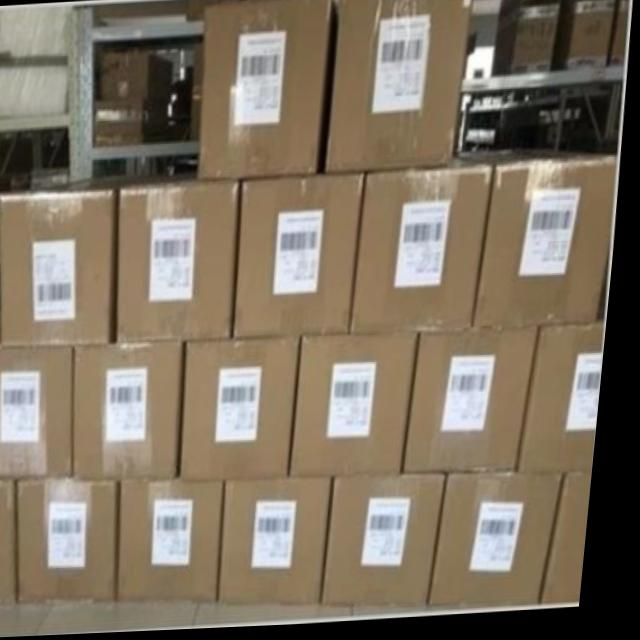box: (3, 175, 172, 348), (459, 153, 621, 331), (326, 0, 473, 177), (354, 157, 498, 336), (201, 0, 339, 182), (239, 173, 369, 342), (121, 174, 246, 347), (410, 329, 546, 477), (299, 332, 426, 479), (440, 478, 573, 613), (187, 339, 308, 481), (332, 479, 456, 612), (80, 345, 191, 481), (228, 480, 342, 609), (129, 481, 235, 608), (525, 326, 612, 478), (25, 480, 130, 603), (0, 327, 81, 480), (552, 477, 602, 609), (492, 0, 561, 83), (555, 0, 617, 72), (0, 478, 31, 605), (102, 54, 176, 103), (96, 101, 171, 149), (611, 0, 631, 71), (192, 44, 203, 142)
